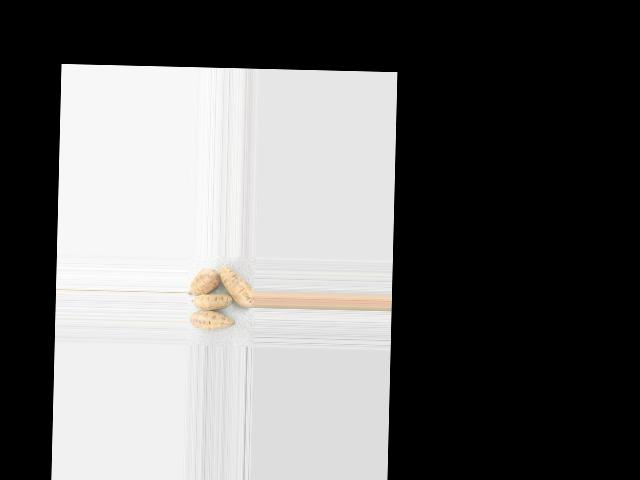sweet_potato: (218, 261, 256, 312)
